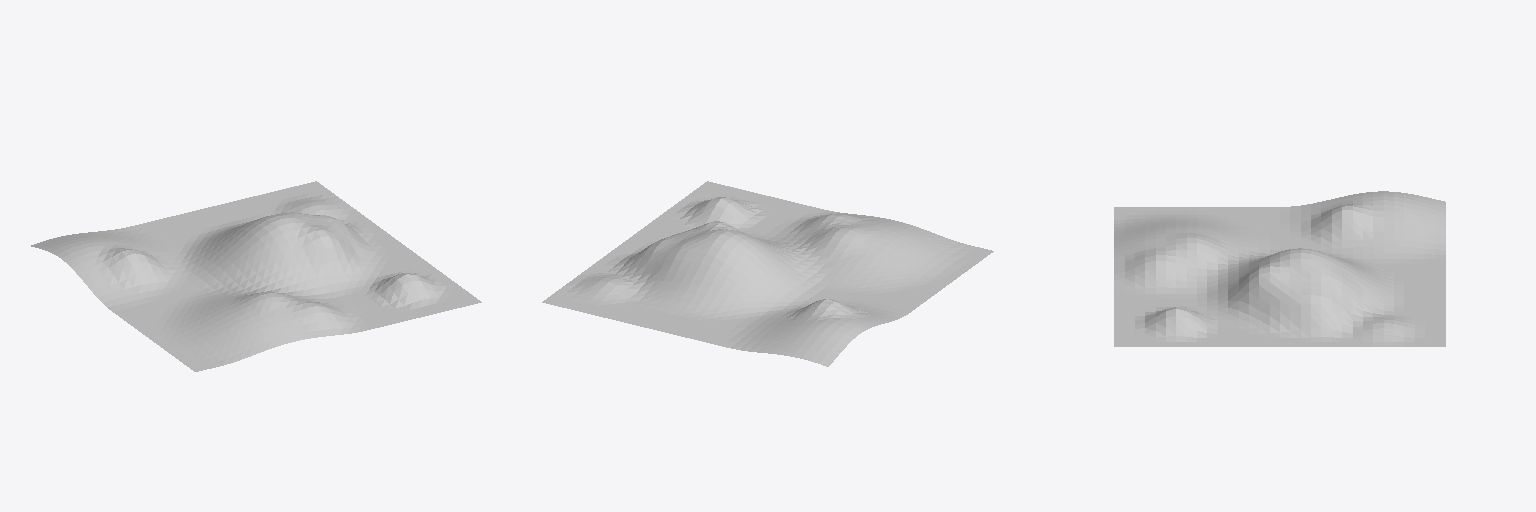
Rendered from FakeTerrain1.obj.
3 views of the same model, side by side, from view 1: azimuth 30°, elevation 25°; view 2: azimuth 150°, elevation 25°; view 3: azimuth 270°, elevation 25° (orthographic).
Visible parts, largest first — view 1: Plane; view 2: Plane; view 3: Plane.
Part boxes in pixels (x1,y1,x2,y2): Plane: (31,181,481,371); Plane: (542,181,993,366); Plane: (1114,191,1445,346).
Bounding box in the file's own units: 10 × 1.38 × 10.